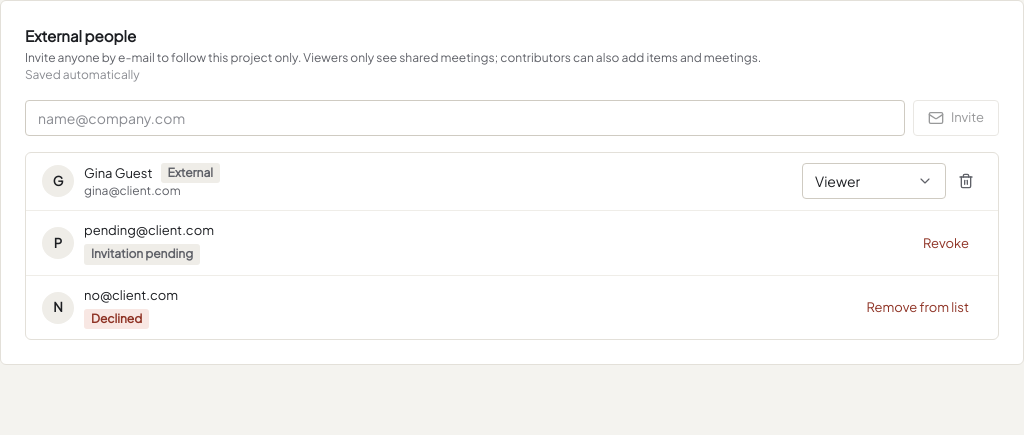
Scenario: ExternalPeopleSection (Story 12.15) › shows a message for 409 already_member
Type "x@client.com" into the field named "Person's e-mail" at (465, 118), box [25, 100, 905, 136]
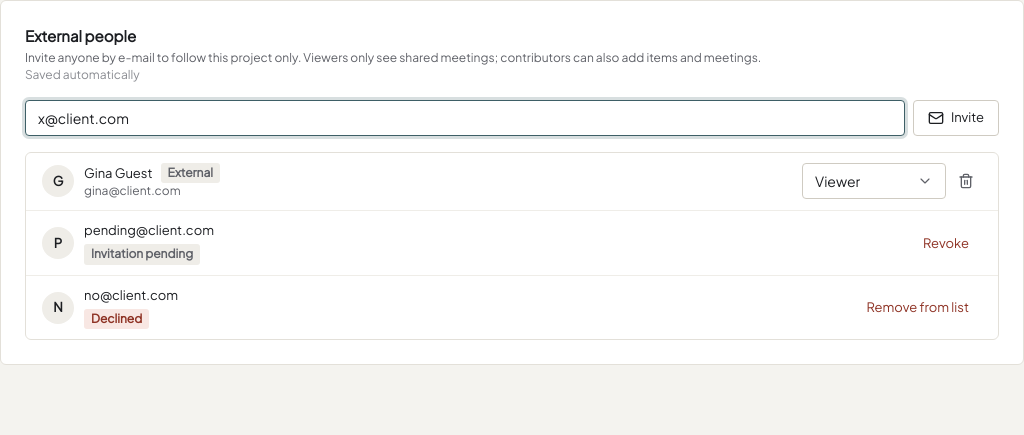
Click the button "Invite" at (956, 118), box [913, 100, 999, 136]
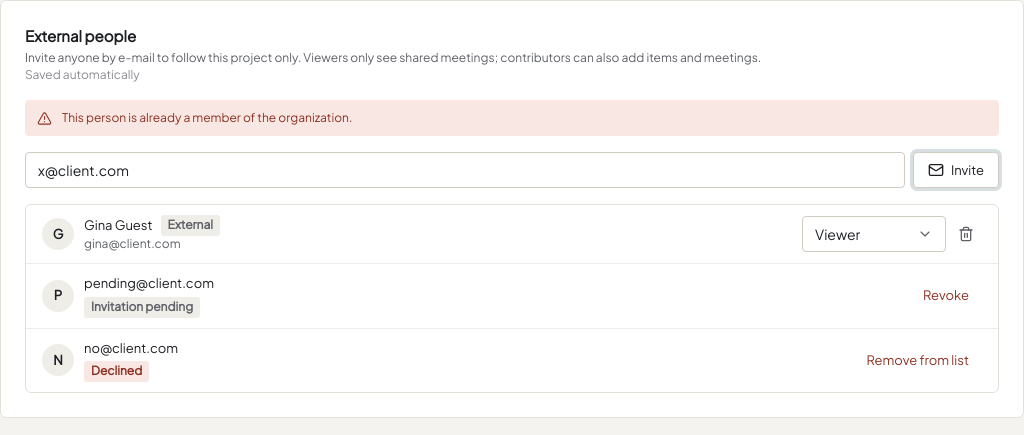
Now the message reads "This person is already a member of the organization.", box [62, 110, 352, 125]
